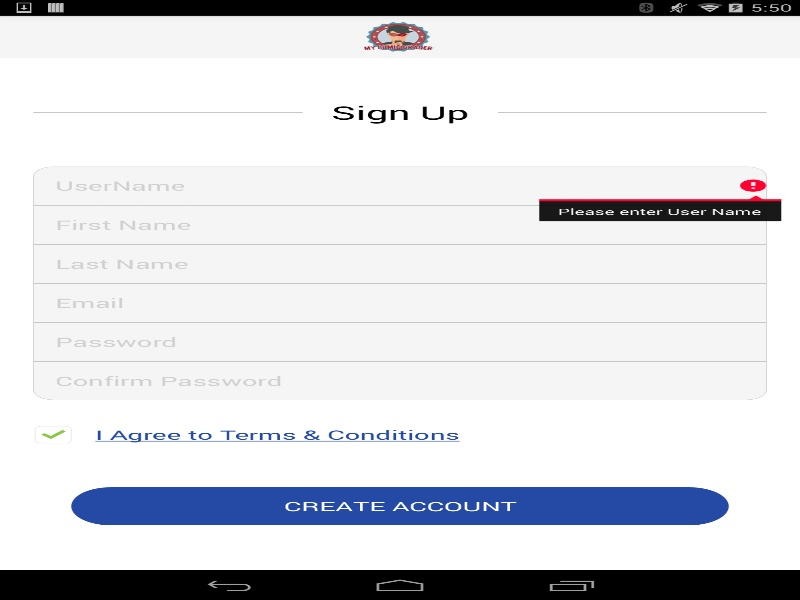Input: (33, 361, 766, 400), (33, 166, 766, 204), (33, 205, 766, 243), (33, 244, 766, 282), (33, 283, 766, 321), (33, 322, 766, 360)
